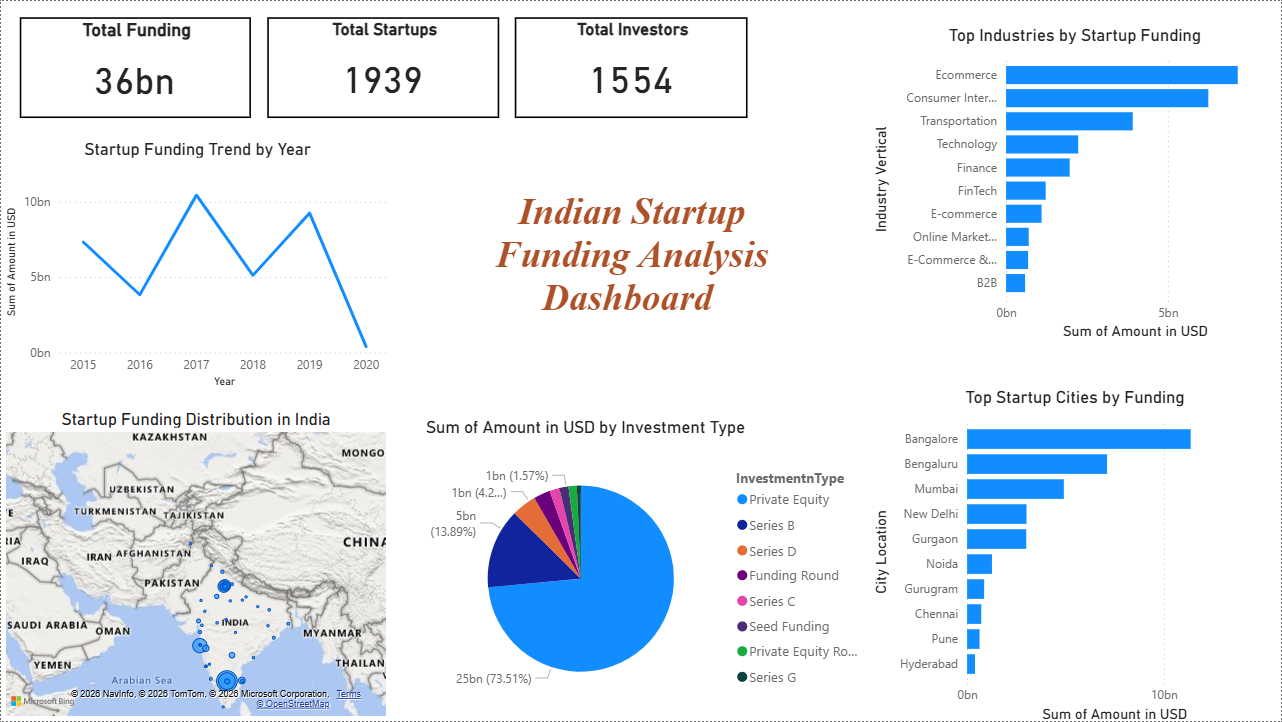

Layout of this report page (visuals, bound fields, positions):
{"tool":"powerbi","page":{"name":"Page 1","canvas":[1280,720],"ordinal":0},"visuals":[{"type":"lineChart","title":"Startup Funding Trend by Year","fields":{"Category":["startup_funding.Year"],"Y":["Sum(startup_funding.Amount in USD)"]},"box":[0,138,393,254],"z":0},{"type":"clusteredBarChart","title":"Top Startup Cities by Funding","fields":{"Category":["startup_funding.City  Location"],"Y":["Sum(startup_funding.Amount in USD)"]},"box":[867,386,413,340],"z":1000},{"type":"clusteredBarChart","title":"Top Industries by Startup Funding","fields":{"Category":["startup_funding.Industry Vertical"],"Y":["Sum(startup_funding.Amount in USD)"]},"box":[867.5,23.8,412.5,320],"z":2000},{"type":"pieChart","title":"Sum of Amount in USD by Investment Type","fields":{"Category":["startup_funding.InvestmentnType"],"Y":["Sum(startup_funding.Amount in USD)"]},"box":[420,416,453,304],"z":3000},{"type":"map","title":"Startup Funding Distribution in India","fields":{"Category":["startup_funding.City  Location"],"Size":["Sum(startup_funding.Amount in USD)"]},"box":[0,408,390,312],"z":4000},{"type":"card","title":"Total Funding","fields":{"Values":["Sum(startup_funding.Amount in USD)"]},"box":[19,16,231,101],"z":5000},{"type":"card","title":"Total Startups","fields":{"Values":["CountNonNull(startup_funding.Startup Name)"]},"box":[266,16,232,101],"z":6000},{"type":"card","title":"Total Investors","fields":{"Values":["Count(startup_funding.Investors Name)"]},"box":[514,16,233,101],"z":7000},{"type":"textbox","box":[480,184,302,152],"z":8000}]}

Visuals, with their boxes in screenshot pixels (x1, y1, x2, y2), scaled from the page's 1280x720 canvas onto the 1282x722 screenshot:
"Startup Funding Trend by Year" lineChart: detection(0, 138, 394, 393)
"Top Startup Cities by Funding" clusteredBarChart: detection(868, 387, 1281, 721)
"Top Industries by Startup Funding" clusteredBarChart: detection(869, 24, 1281, 345)
"Sum of Amount in USD by Investment Type" pieChart: detection(421, 417, 874, 721)
"Startup Funding Distribution in India" map: detection(0, 409, 391, 721)
"Total Funding" card: detection(19, 16, 250, 117)
"Total Startups" card: detection(266, 16, 499, 117)
"Total Investors" card: detection(515, 16, 748, 117)
textbox: detection(481, 185, 783, 337)
